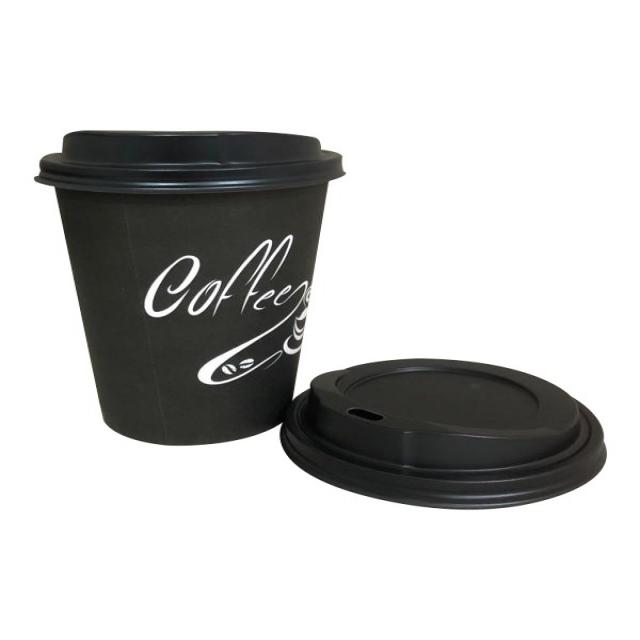karton-bardak: (44, 131, 364, 456)
